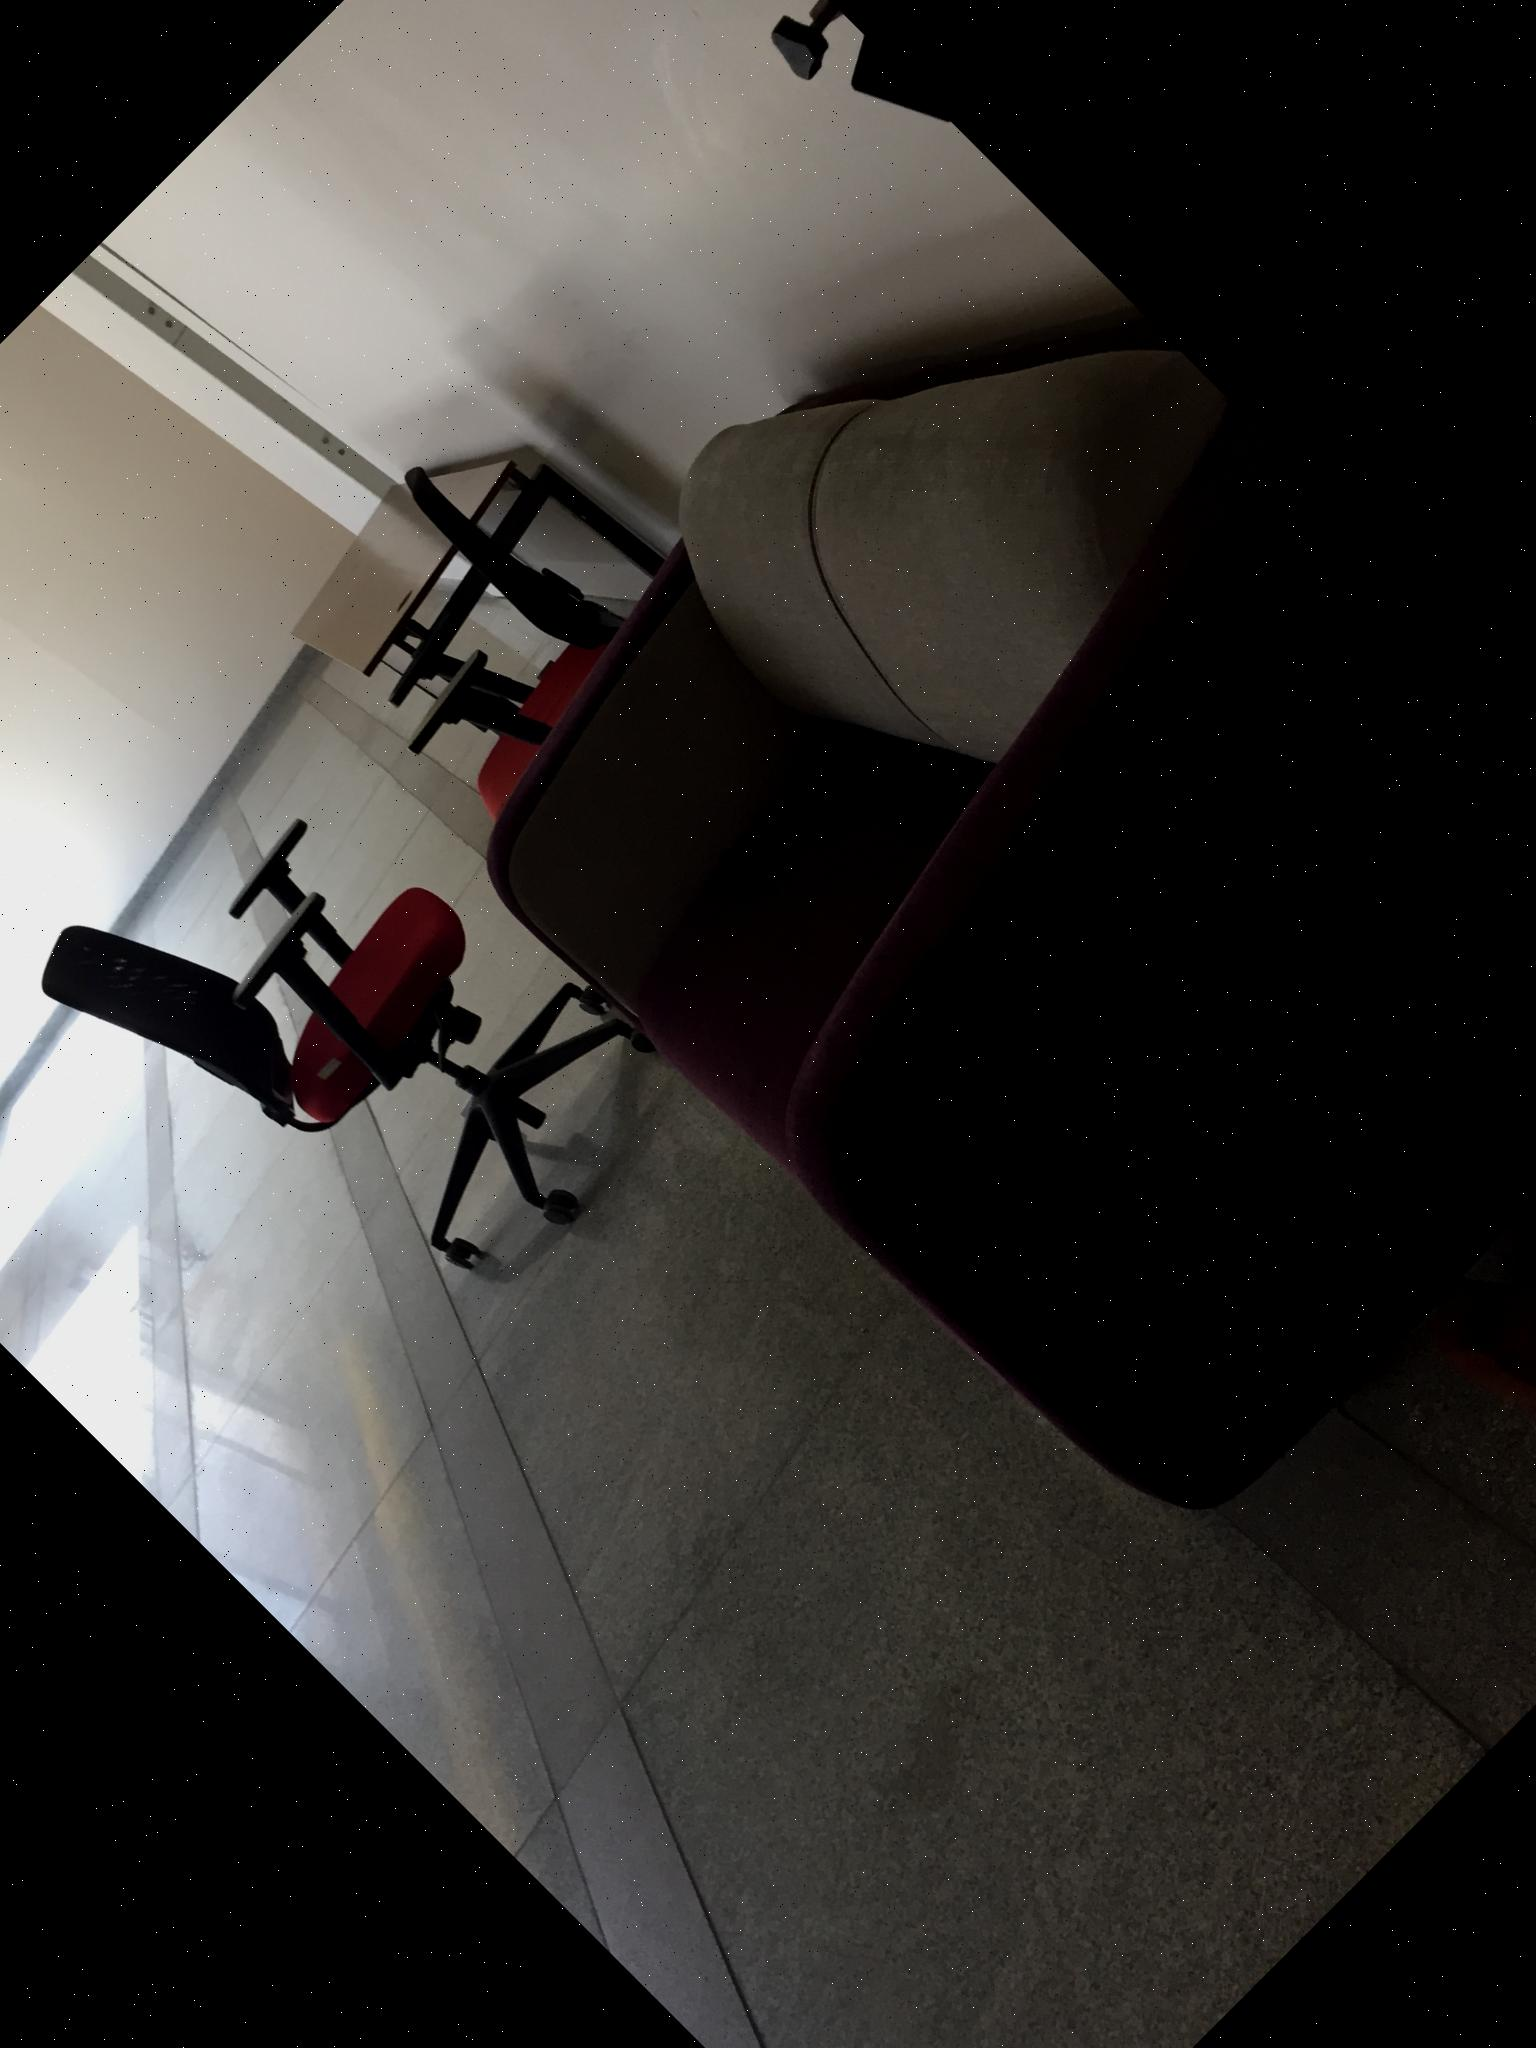chair: (19, 692, 702, 1374), (229, 408, 763, 943)
